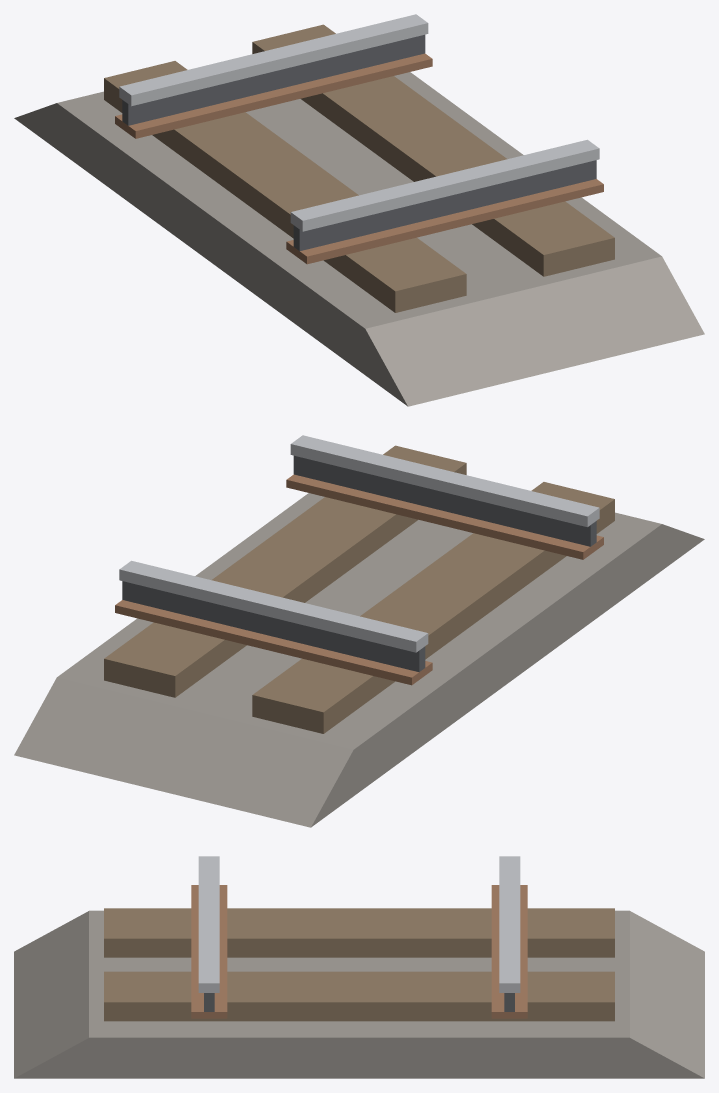
File: rail_track_short.glb
3 views of the same model, one above another, from view 1: azimuth 30°, elevation 25°; view 2: azimuth 150°, elevation 25°; view 3: azimuth 270°, elevation 25° (orthographic). The views are drawn at different scales.
Bounding box in the file's own units: 1 × 0.35 × 2.3.
